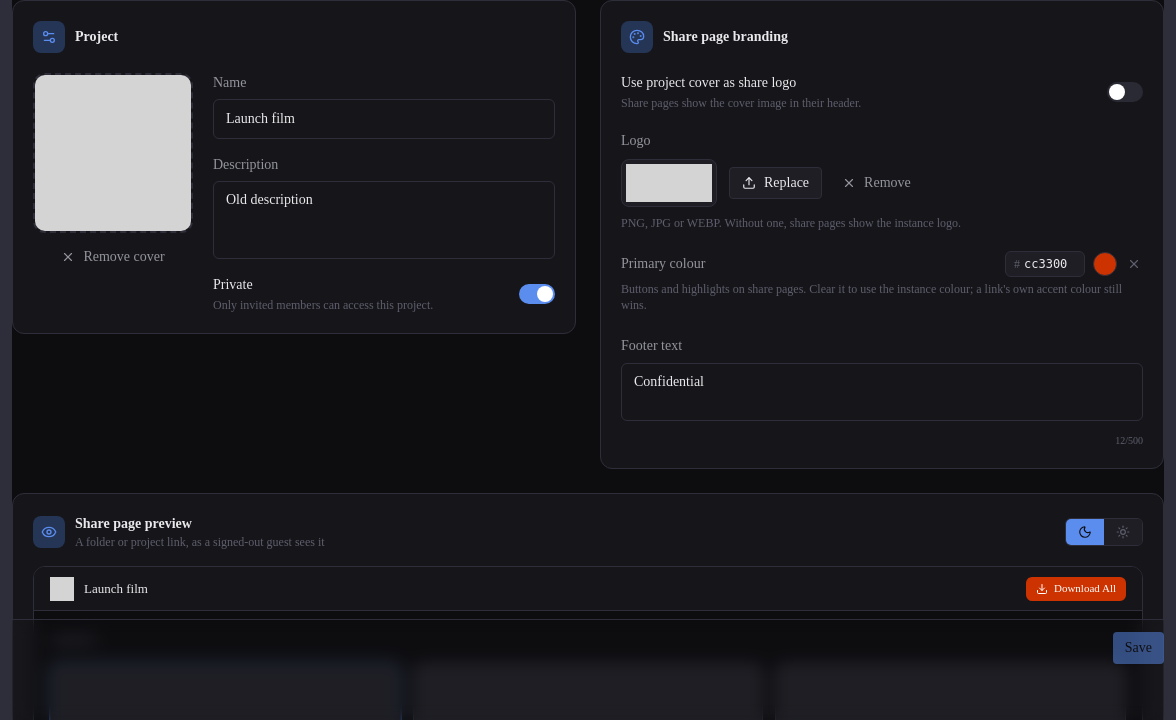
Test: saving several parts › Discard puts every field back
Expected: the field named "Primary colour hex" is shown, [1020, 252, 1084, 276]
Step 1. Replace the text in the field labelled "Name" with "Other" → (384, 119), box [213, 99, 555, 139]
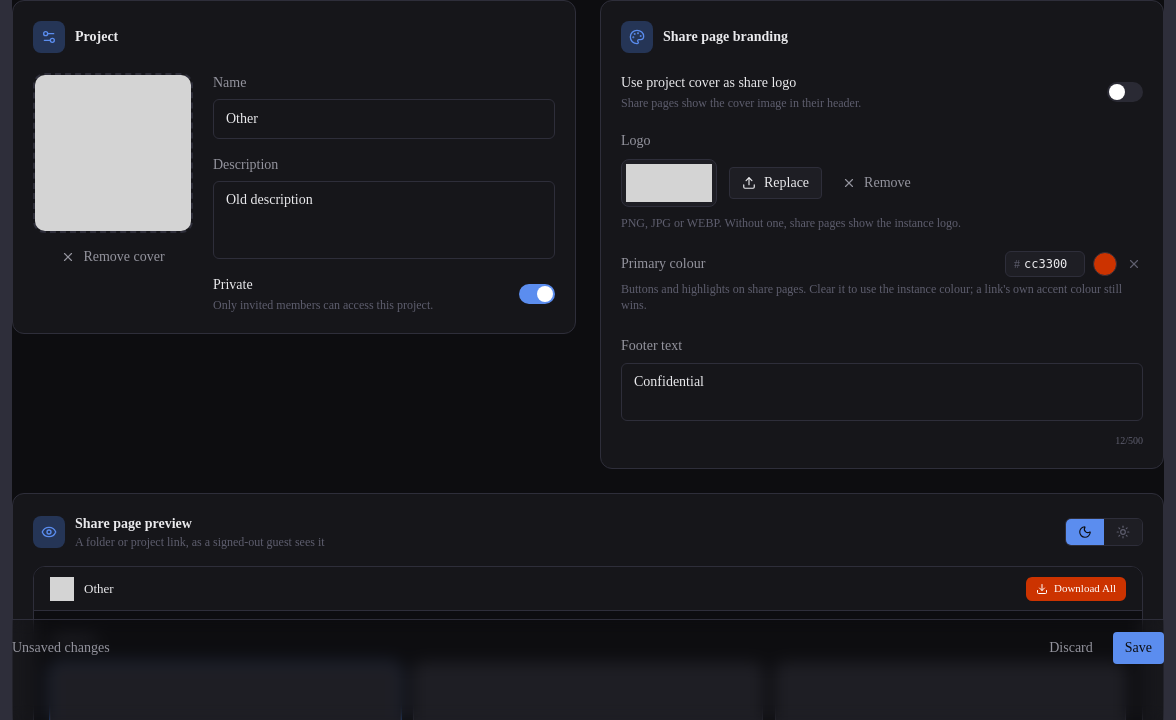
Step 2. Replace the text in the text box labelled "Footer text" with "Other footer" → (882, 392), box [621, 363, 1143, 421]
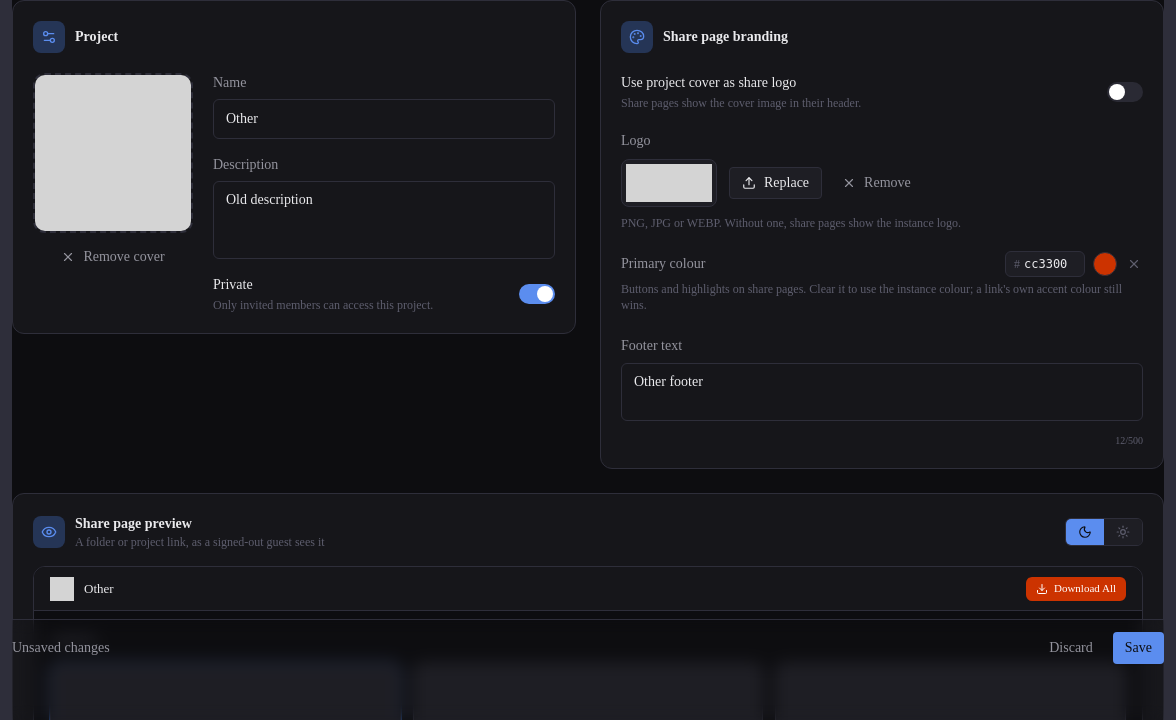
Step 3. Click the button "Discard" → (1071, 648), box [1037, 632, 1105, 664]
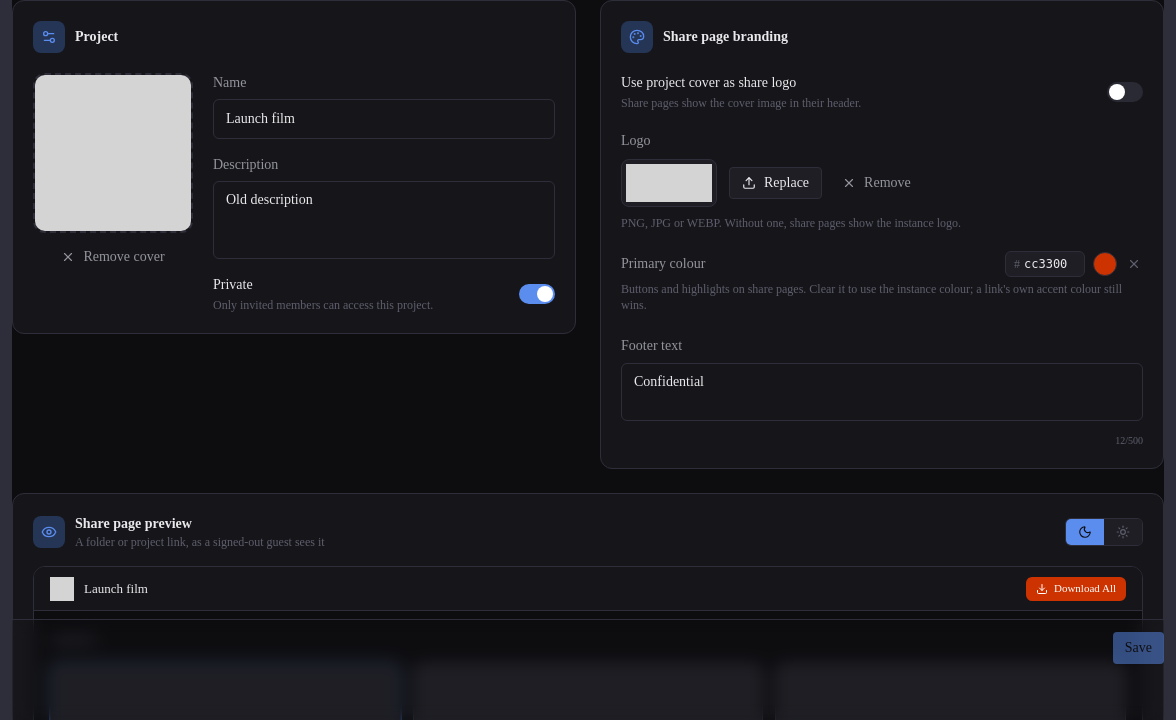
Expected: the field labelled "Name" holds "Launch film", [213, 99, 555, 139]
Expected: the text box labelled "Footer text" holds "Confidential", [621, 363, 1143, 421]
Expected: the button "Save" is disabled, [1113, 632, 1164, 664]
